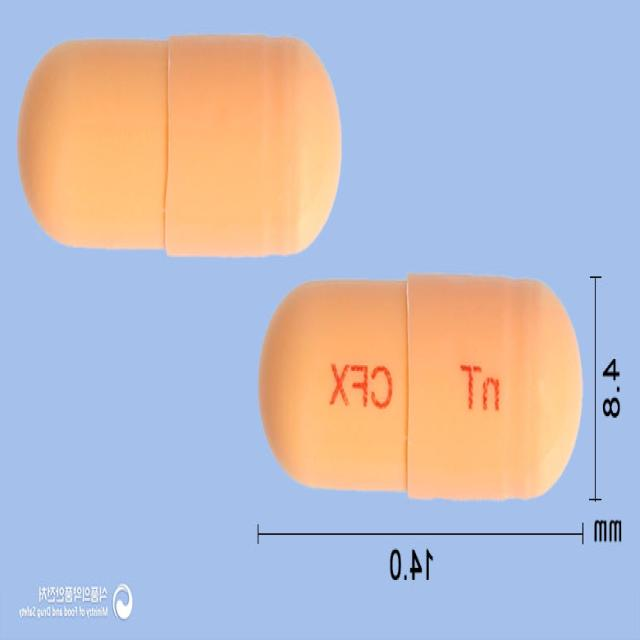Clara: (15, 34, 342, 259), (258, 278, 582, 500)
